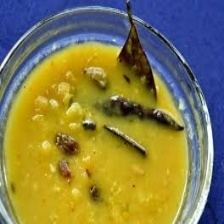dal: (0, 38, 194, 224)
